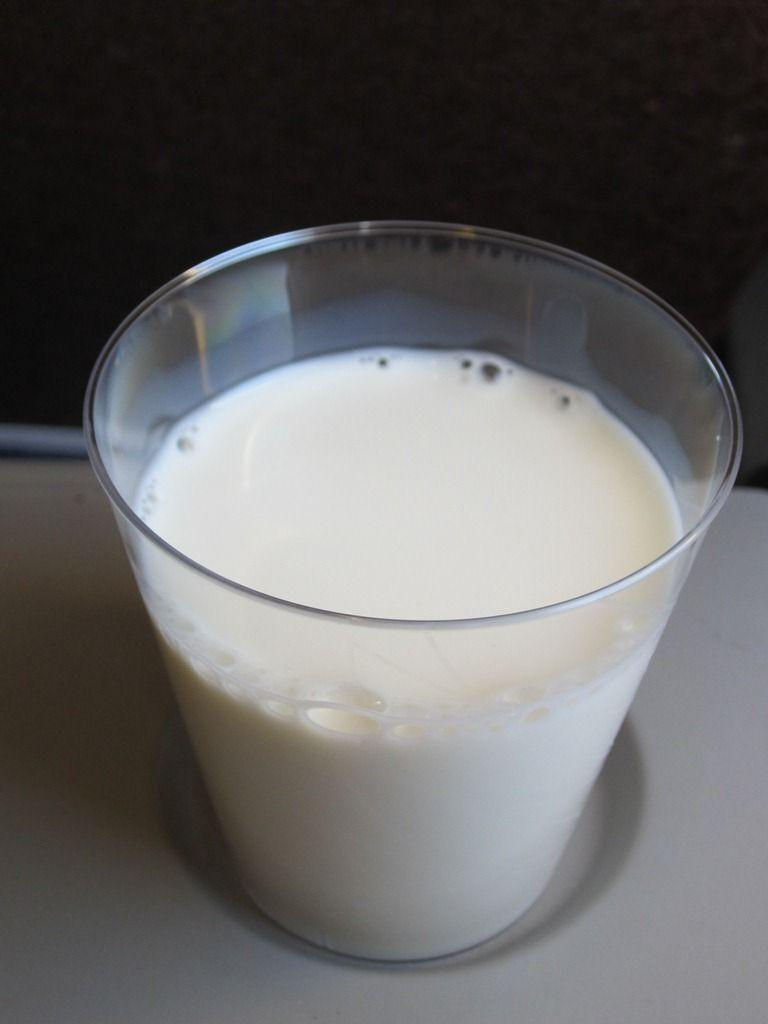produk_susu: (233, 291, 558, 860)
